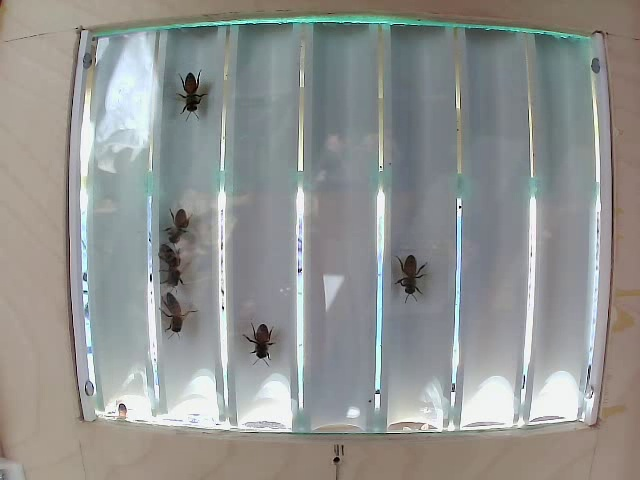bee: (154, 240, 191, 288), (245, 326, 289, 366), (393, 258, 426, 307), (162, 198, 195, 242), (161, 291, 184, 342), (183, 68, 206, 110)
